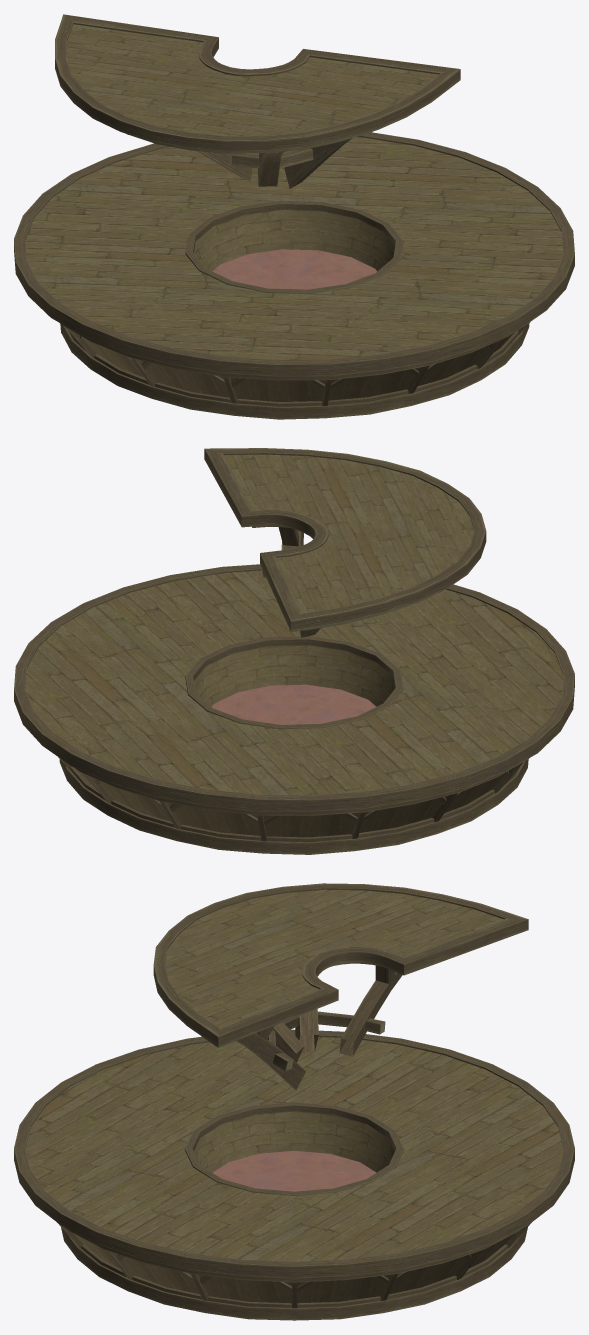
File: Homeworld_Exterior_Xm_Build_House_02_A_Lod0.fbx
3 renders of one model, top to bottom at view 1: azimuth 30°, elevation 25°; view 2: azimuth 150°, elevation 25°; view 3: azimuth 270°, elevation 25°, orthographic.
Parts seen in each view (by area): view 1: Homeworld_Exterior_Xm_Build_House_02_A_Lod0; view 2: Homeworld_Exterior_Xm_Build_House_02_A_Lod0; view 3: Homeworld_Exterior_Xm_Build_House_02_A_Lod0.
Boxes of the visible parts, x1,y1,x2,y2 form: Homeworld_Exterior_Xm_Build_House_02_A_Lod0: (14, 14, 574, 419); Homeworld_Exterior_Xm_Build_House_02_A_Lod0: (14, 448, 574, 854); Homeworld_Exterior_Xm_Build_House_02_A_Lod0: (14, 883, 574, 1320).
Size of the model in its own units: 21.42 by 10.43 by 21.42.
